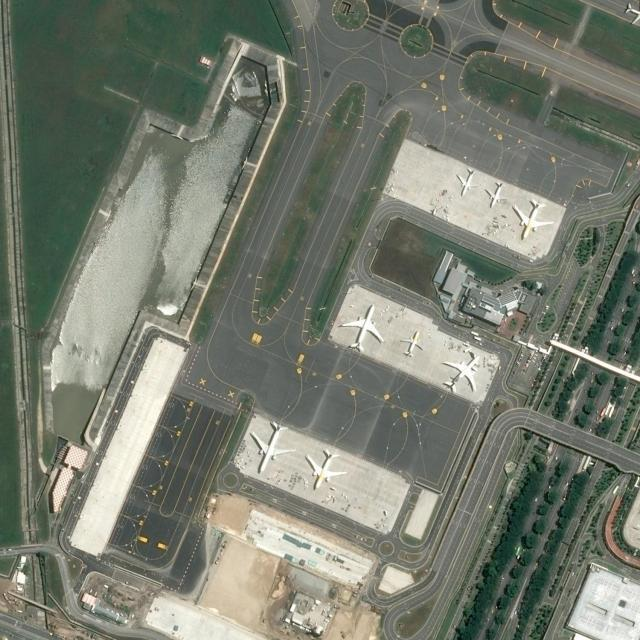Aircraft: (248, 420, 295, 474), (341, 303, 383, 351), (513, 195, 555, 241), (440, 350, 482, 394), (304, 447, 346, 491), (401, 328, 426, 358), (455, 166, 477, 198), (485, 179, 505, 209), (624, 0, 640, 26)
